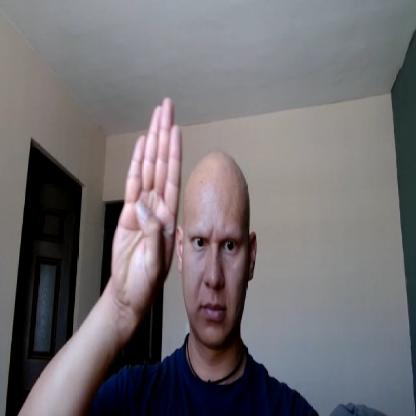B: (112, 96, 183, 304)
